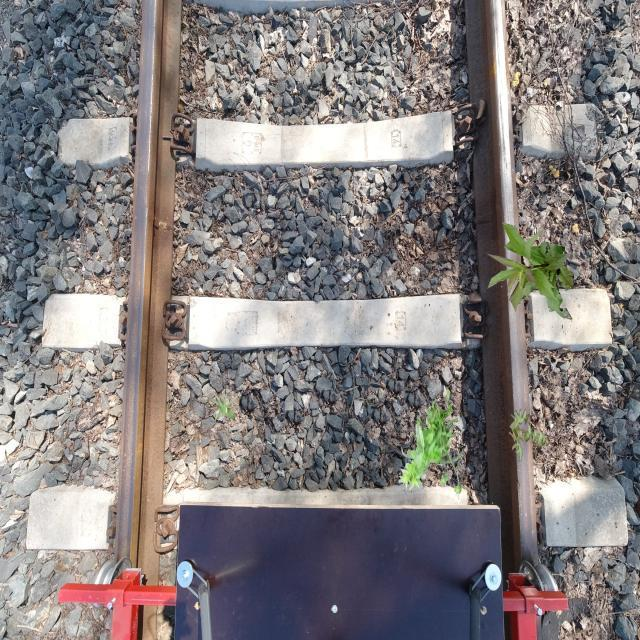Plant: (486, 222, 574, 320), (399, 389, 464, 496), (508, 409, 550, 463), (206, 388, 238, 422)
